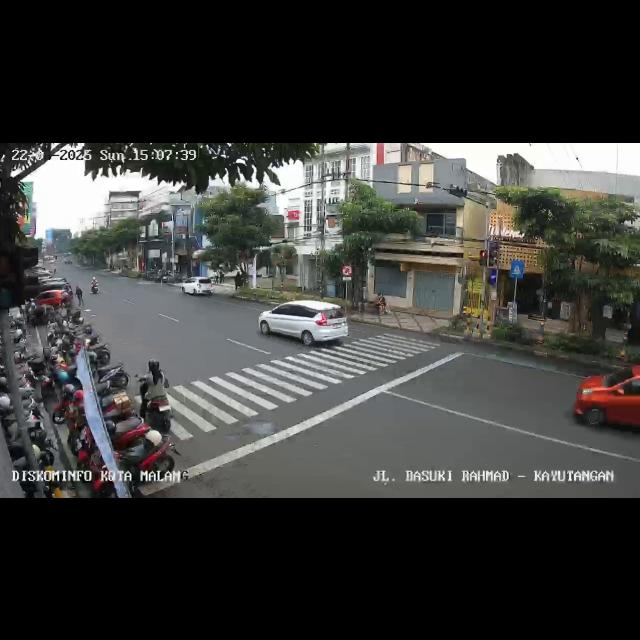car: (572, 364, 640, 436), (258, 297, 348, 348), (32, 276, 72, 316), (180, 276, 216, 296)
motorcycle: (134, 358, 172, 432), (90, 274, 100, 294)
person: (74, 284, 84, 306)
